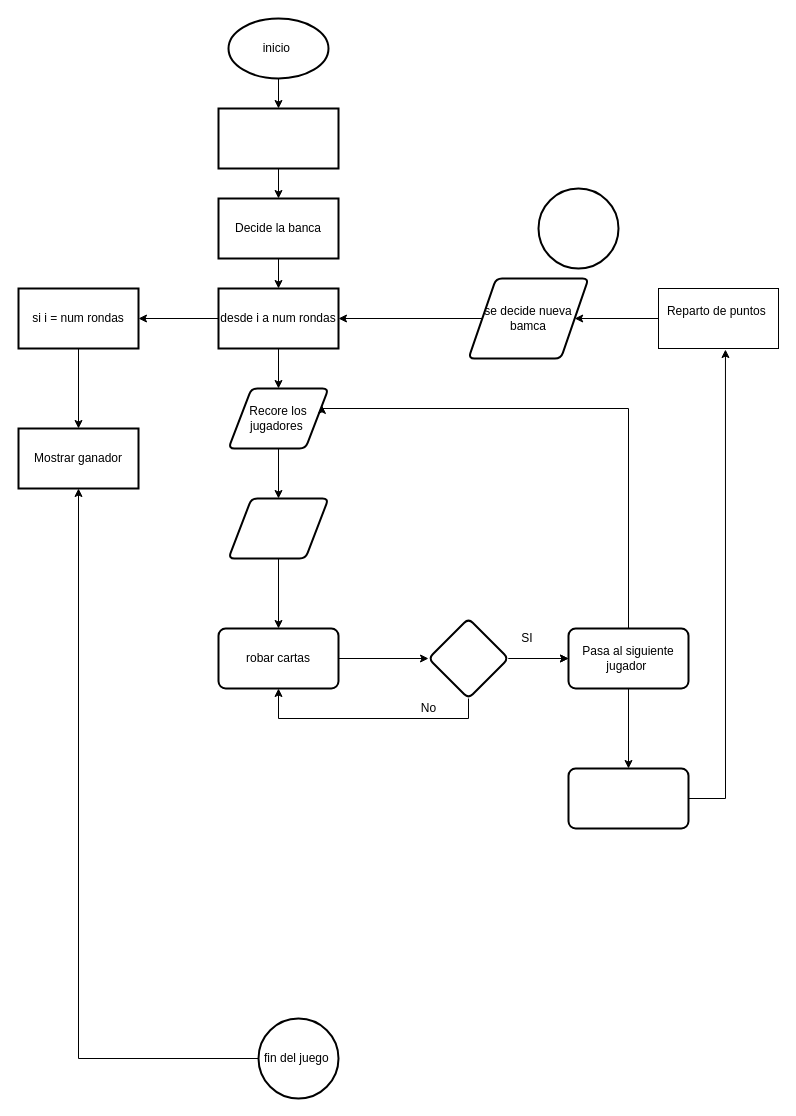
The diagram is 796 pixels wide and 1116 high, and some of its shapes have lost their labels. Here are the shapes that lost their labels. From the top down, the centre of each, then its label:
(x=278, y=138): Genera prioridad
(x=578, y=228): Termina el juego
(x=278, y=528): hacer apuesta
(x=468, y=658): Plantas?
(x=628, y=798): Si no quedan jugadores x ronda
